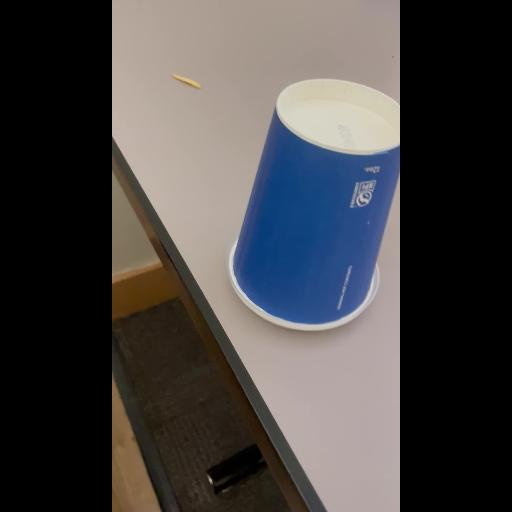lp_paper_cup: (224, 66, 400, 334)
